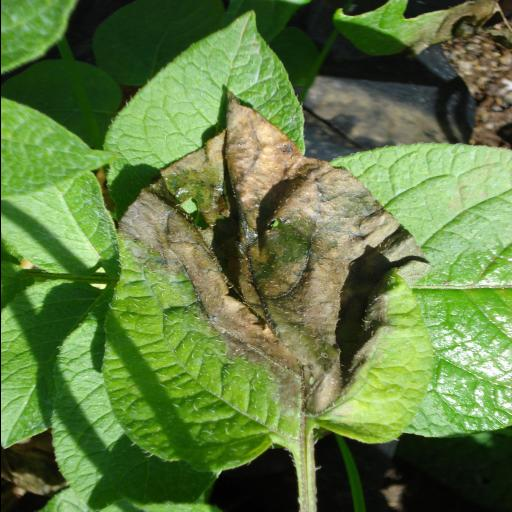Late Blight: (92, 98, 436, 472)
